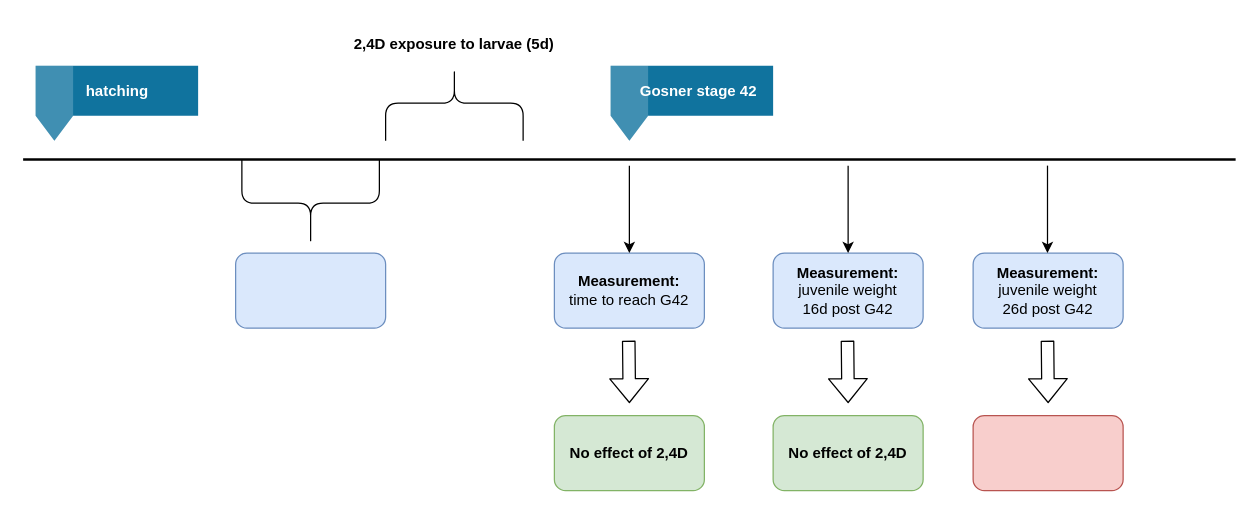
Some shapes in this 1258 by 513 pixel diagram are drawn without their labels. Each missing label, with the centre of its shape:
"Adverse effect of 2,4D" belongs at pixel 1047 452.
"Measurements: larval length at three time-points" belongs at pixel 310 290.
